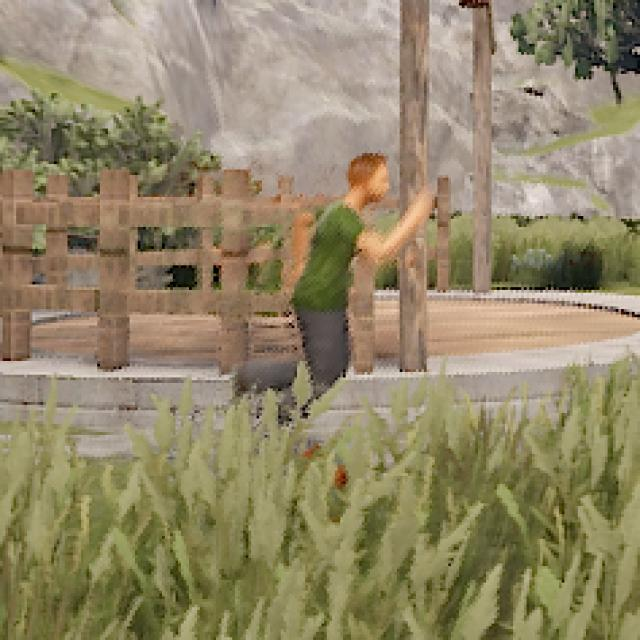Player: (294, 153, 391, 378)
